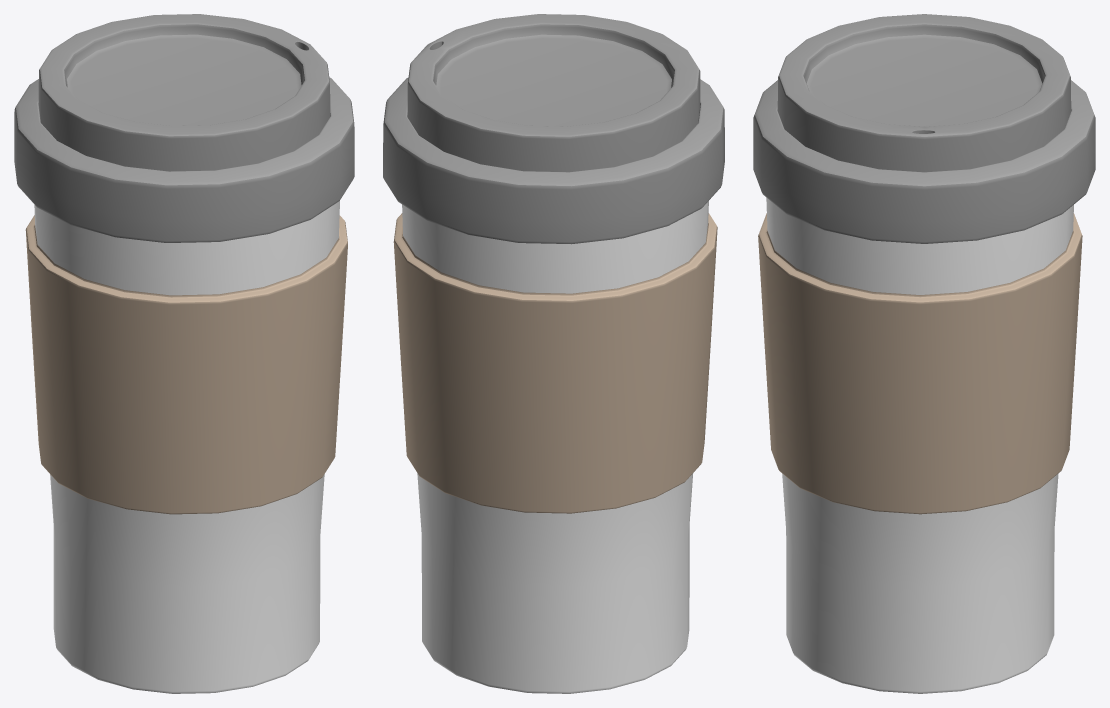
Rendered from coffee-new.fbx.
3 views of the same model, side by side, from view 1: azimuth 30°, elevation 25°; view 2: azimuth 150°, elevation 25°; view 3: azimuth 270°, elevation 25° (orthographic).
Parts seen in each view (by area): view 1: pCylinder98; view 2: pCylinder98; view 3: pCylinder98.
Boxes of the visible parts, x1,y1,x2,y2 form: pCylinder98: (14, 14, 354, 693); pCylinder98: (383, 14, 724, 693); pCylinder98: (753, 14, 1095, 693).
Size of the model in its own units: 8.38 by 15.24 by 8.38.
